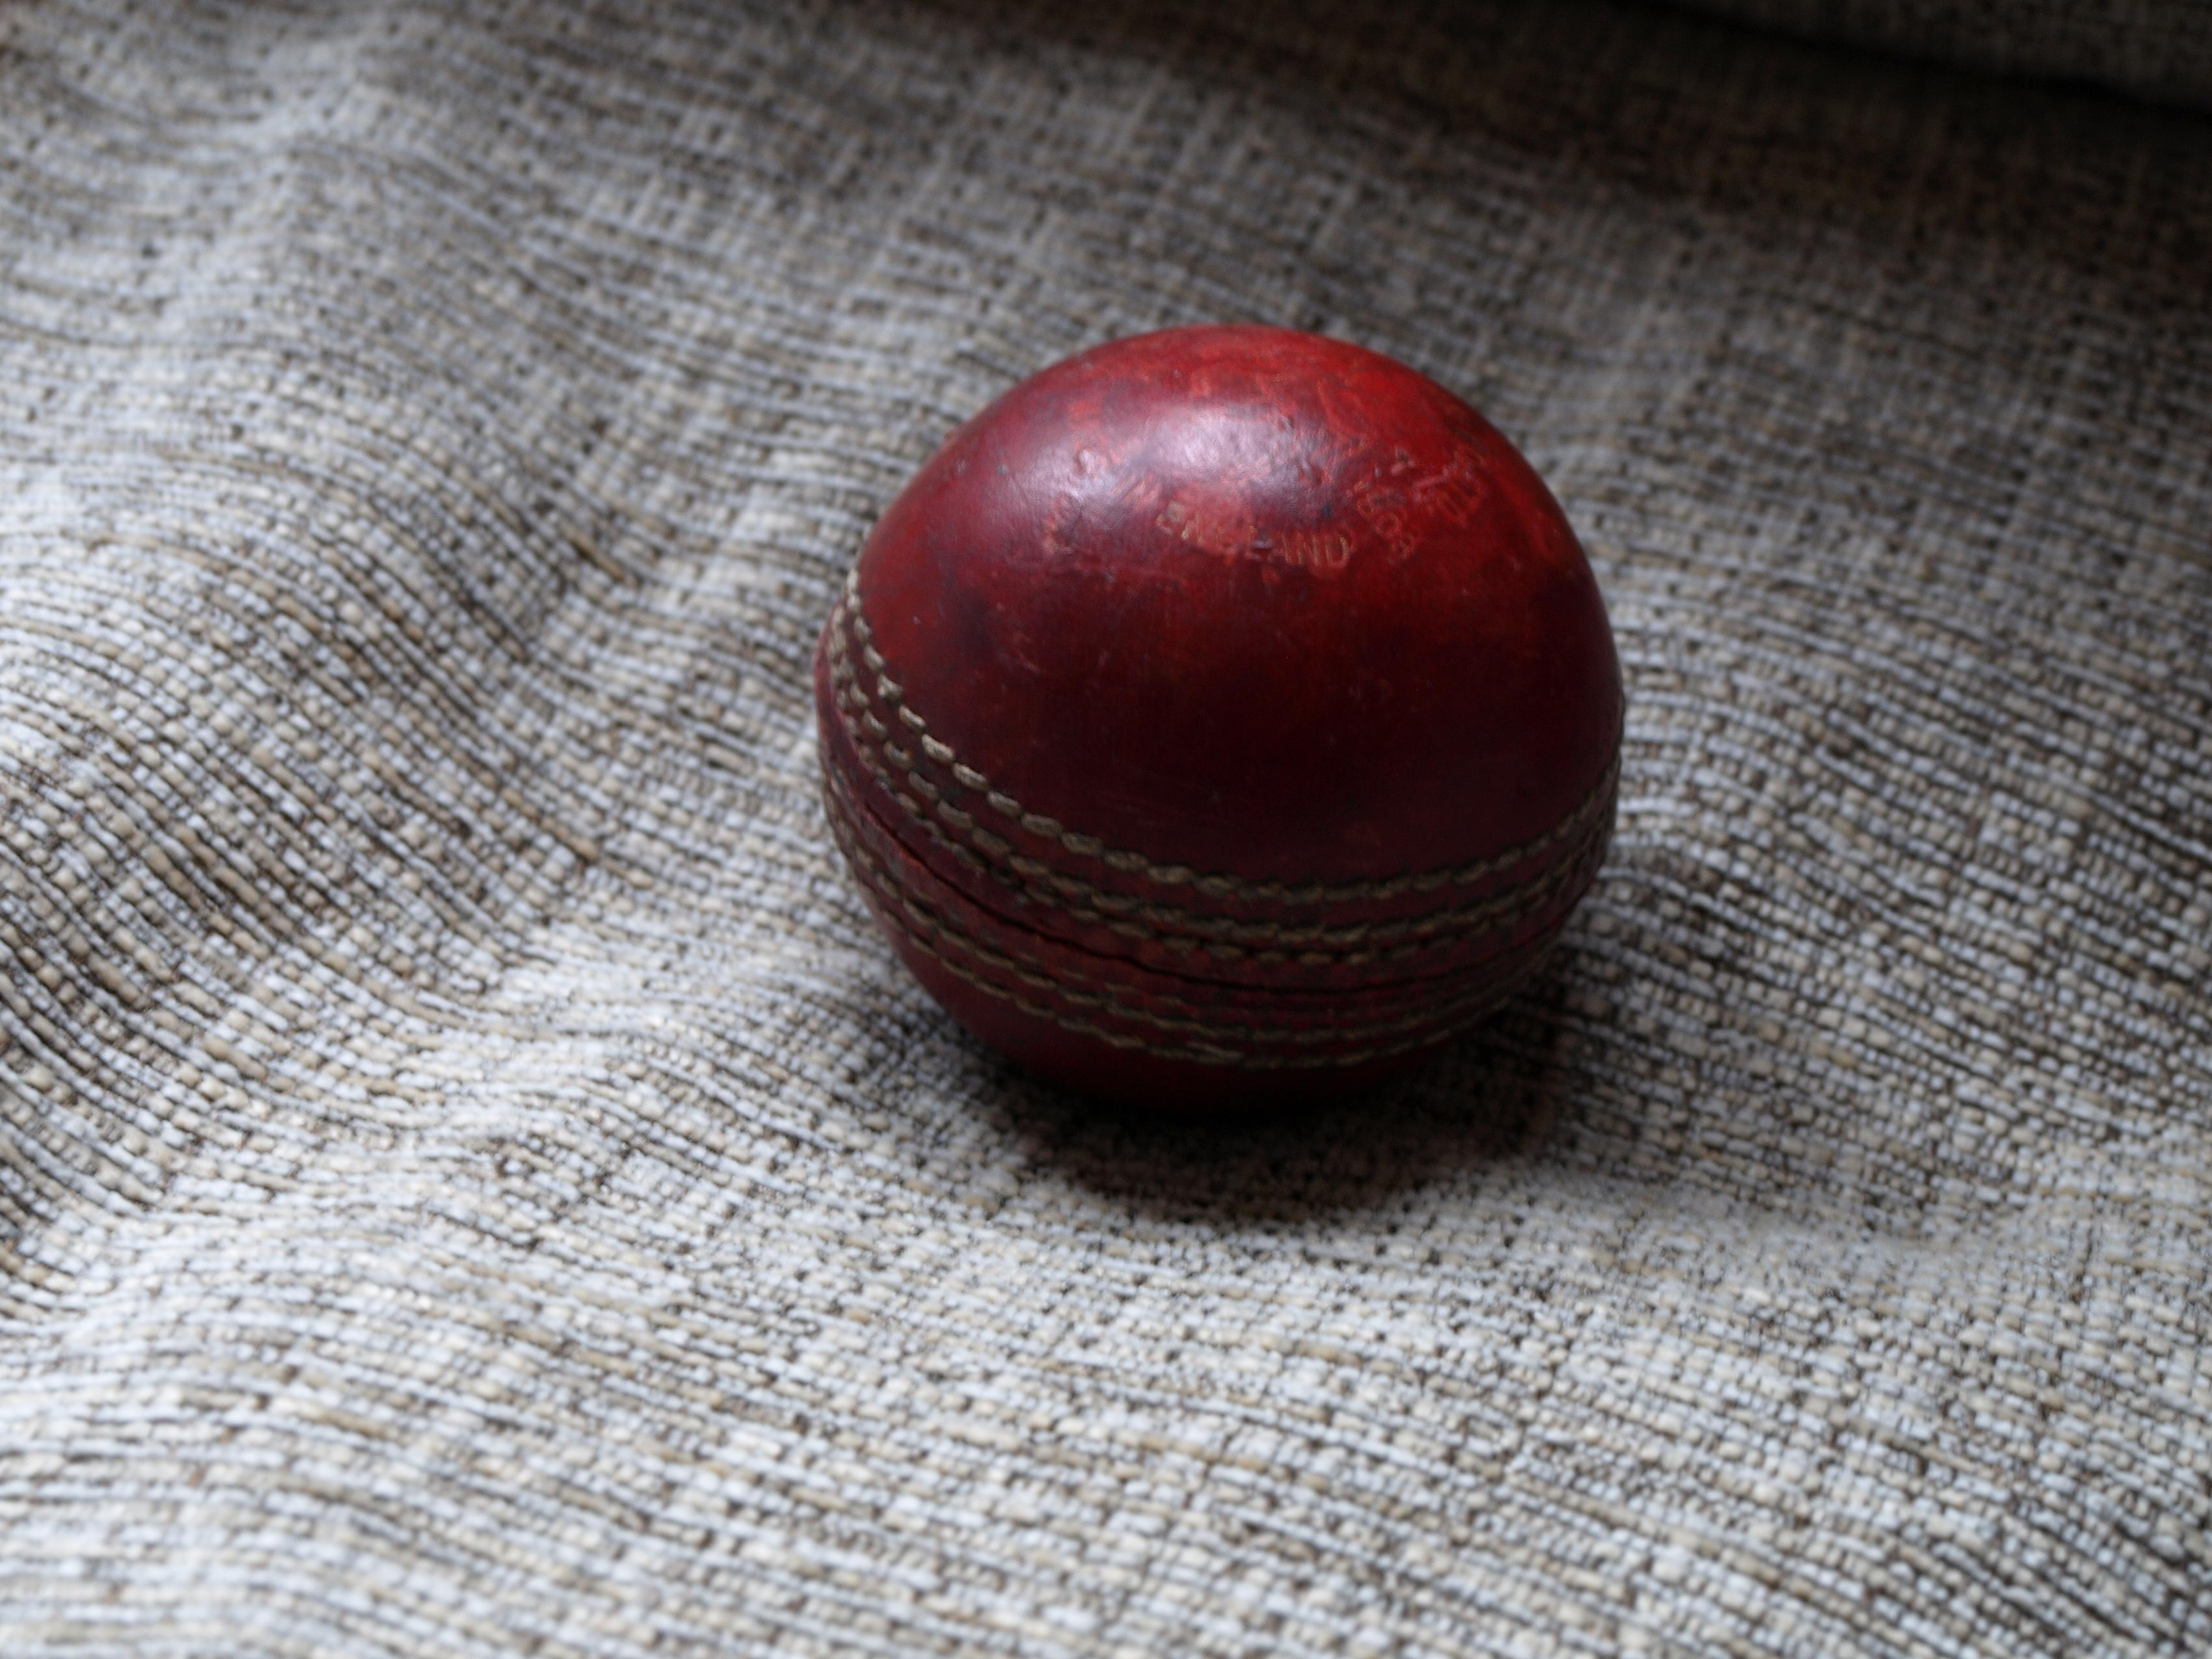Red_Ball: (829, 308, 1644, 1133)
